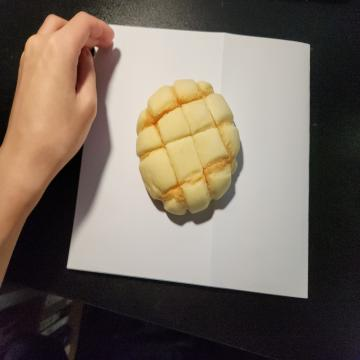melon_bread: (136, 80, 242, 217)
